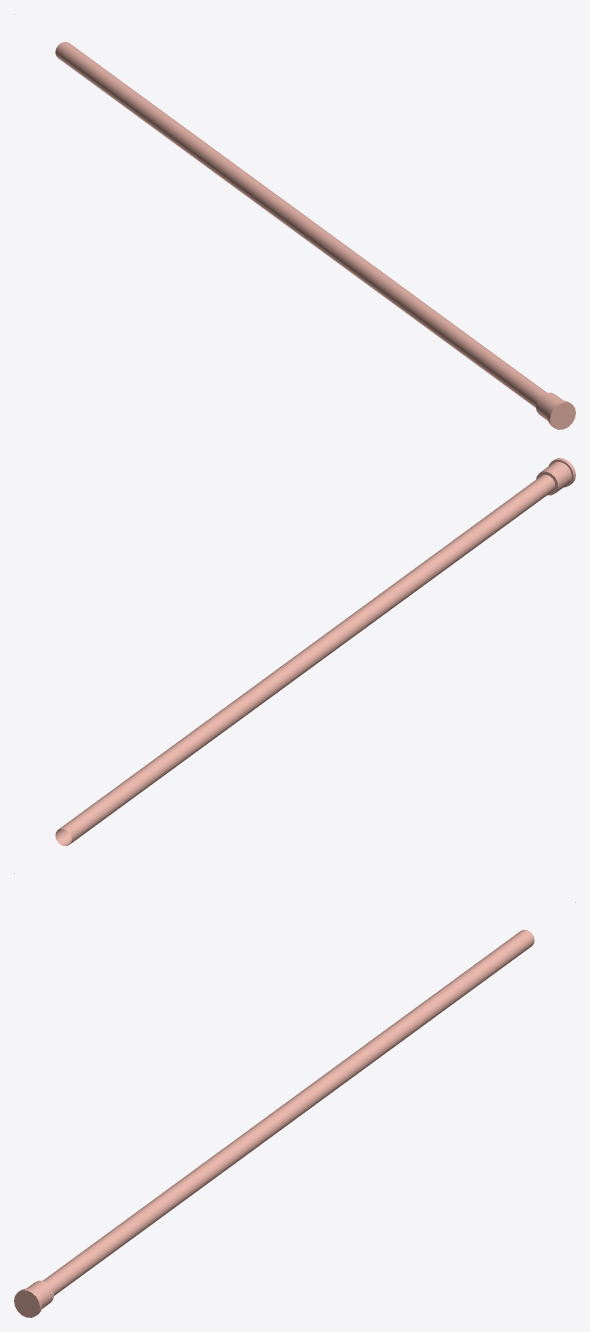
The model's file is MeshFloorLamp_2_0_GeomSubset_0.obj.
The picture shows the model from 3 angles, top to bottom: view 1: azimuth 30°, elevation 25°; view 2: azimuth 150°, elevation 25°; view 3: azimuth 330°, elevation 25°; orthographic projection.
Visible parts, largest first — view 1: MeshFloorLamp_2_0_GeomSubset_0; view 2: MeshFloorLamp_2_0_GeomSubset_0; view 3: MeshFloorLamp_2_0_GeomSubset_0.
Boxes of the visible parts, bbox=[...] form: MeshFloorLamp_2_0_GeomSubset_0: bbox=[14, 14, 575, 429]; MeshFloorLamp_2_0_GeomSubset_0: bbox=[14, 458, 575, 873]; MeshFloorLamp_2_0_GeomSubset_0: bbox=[14, 902, 575, 1317].
Size of the model in its own units: 0.0511 by 0.0511 by 1.87.
